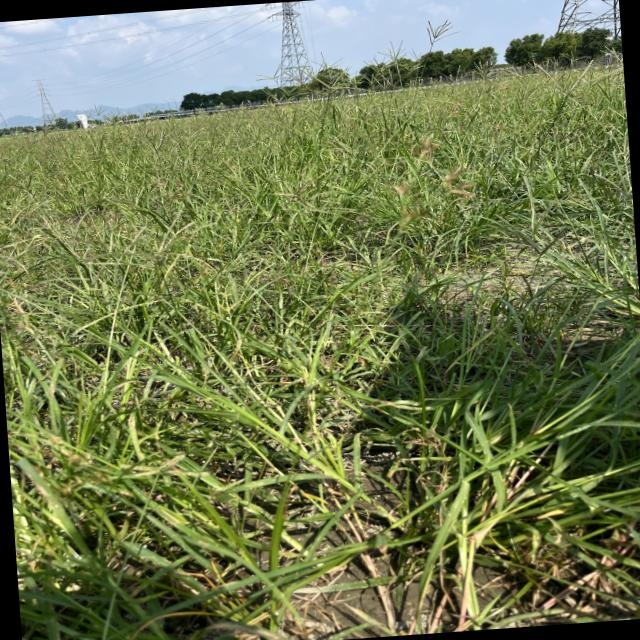cyperus: (373, 120, 497, 232)
